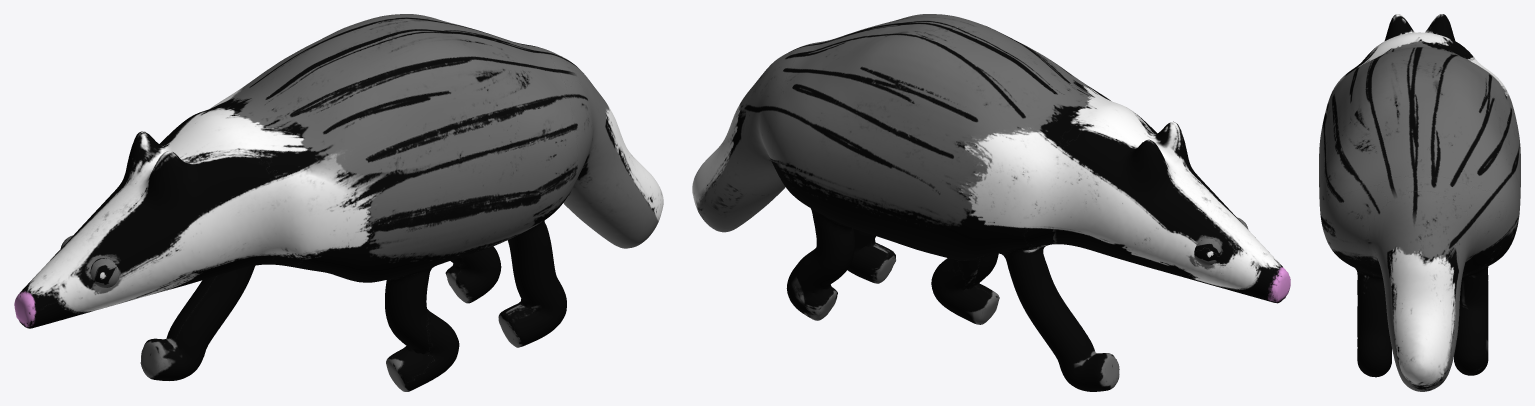
Rendered from badger.glb.
The picture shows the model from 3 angles, left to right: view 1: azimuth 30°, elevation 25°; view 2: azimuth 150°, elevation 25°; view 3: azimuth 270°, elevation 25°; orthographic projection. The views are drawn at different scales.
Parts seen in each view (by area): view 1: Eyes_Eyes_1, Eyes_Eyes_0; view 2: Eyes_Eyes_1, Eyes_Eyes_0; view 3: Eyes_Eyes_1.
Boxes of the visible parts, left/top/right/bottom form: Eyes_Eyes_1: left=14, top=14, right=663, bottom=391; Eyes_Eyes_0: left=60, top=235, right=119, bottom=287; Eyes_Eyes_1: left=692, top=14, right=1290, bottom=391; Eyes_Eyes_0: left=1194, top=217, right=1248, bottom=265; Eyes_Eyes_1: left=1319, top=14, right=1520, bottom=391.
Size of the model in its own units: 1.24 by 0.6223 by 0.4069.
2 materials, 2 textured.
